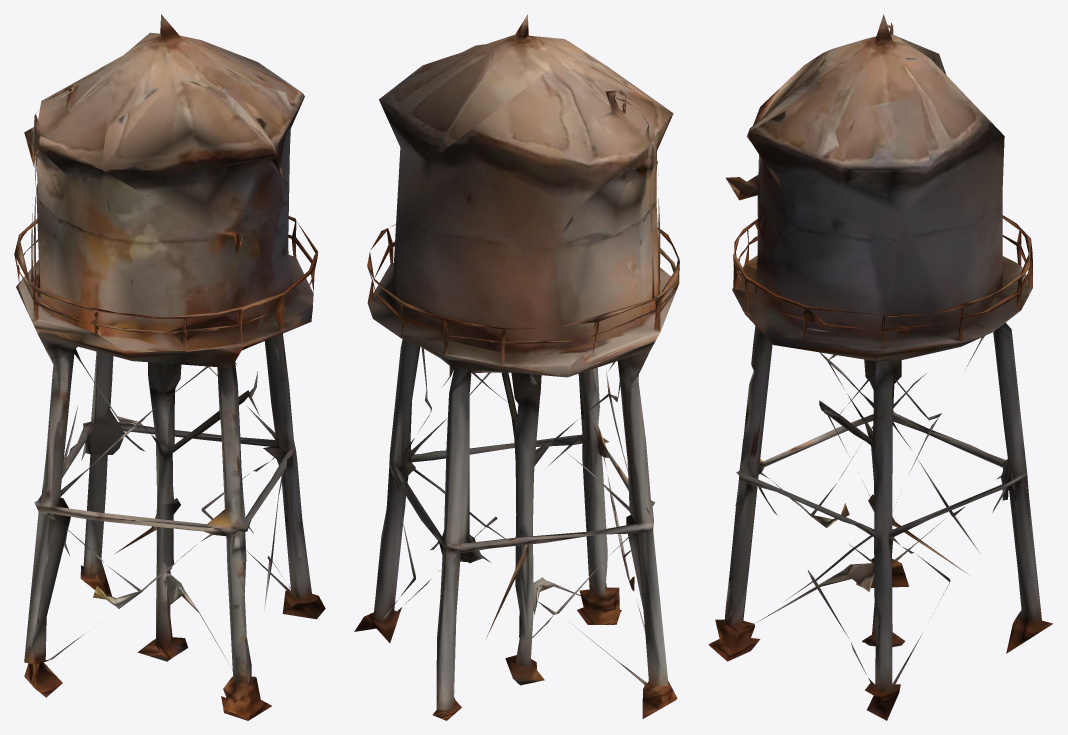
Rendered from p8watertower.glb.
The picture shows the model from 3 angles, left to right: view 1: azimuth 30°, elevation 25°; view 2: azimuth 150°, elevation 25°; view 3: azimuth 270°, elevation 25°; orthographic projection. The views are drawn at different scales.
Visible parts, largest first — view 1: tripo_node_0bf0cf62-ec96-4206-9173-0676520731fa; view 2: tripo_node_0bf0cf62-ec96-4206-9173-0676520731fa; view 3: tripo_node_0bf0cf62-ec96-4206-9173-0676520731fa.
Boxes of the visible parts, box(x1,y1,x2,y2) form: tripo_node_0bf0cf62-ec96-4206-9173-0676520731fa: box(14, 14, 325, 720); tripo_node_0bf0cf62-ec96-4206-9173-0676520731fa: box(354, 14, 679, 720); tripo_node_0bf0cf62-ec96-4206-9173-0676520731fa: box(708, 14, 1052, 720).
Size of the model in its own units: 0.4924 by 0.9976 by 0.4935.
1 material, 1 textured.
